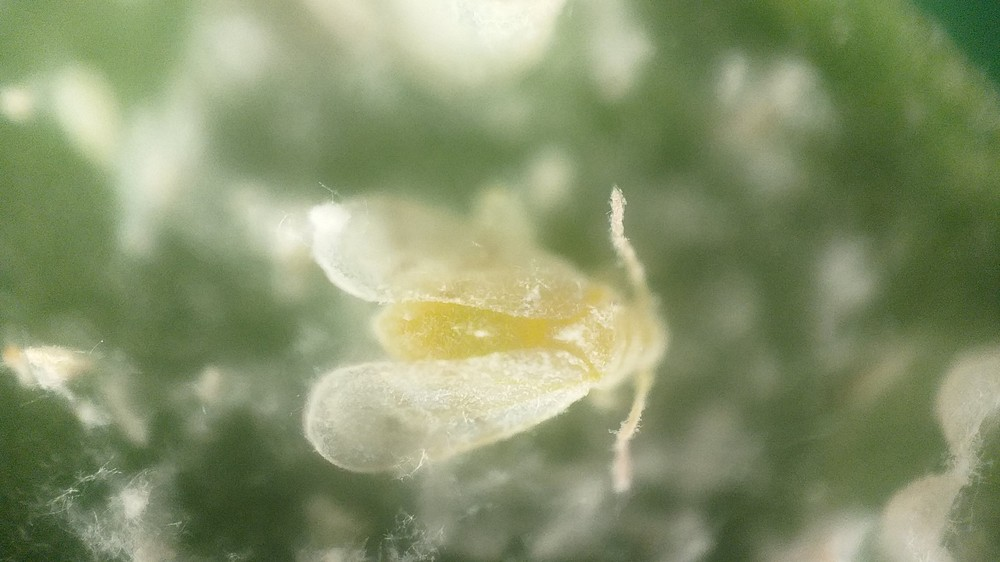Mosca Blanca: (287, 163, 684, 499)
